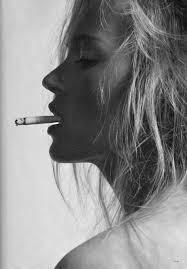smoke: (15, 115, 62, 126)
